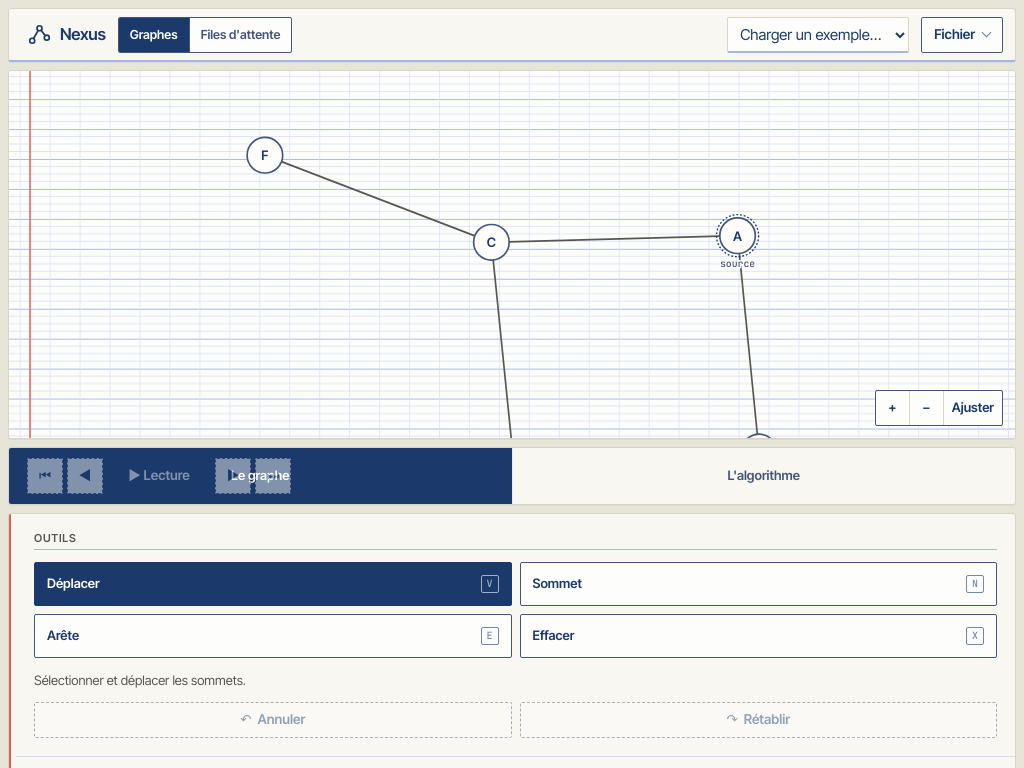
Scenario: le menu Fichier › se ferme avec Échap
Click the button "Fichier".
click(962, 34)  # box [921,16,1003,52]
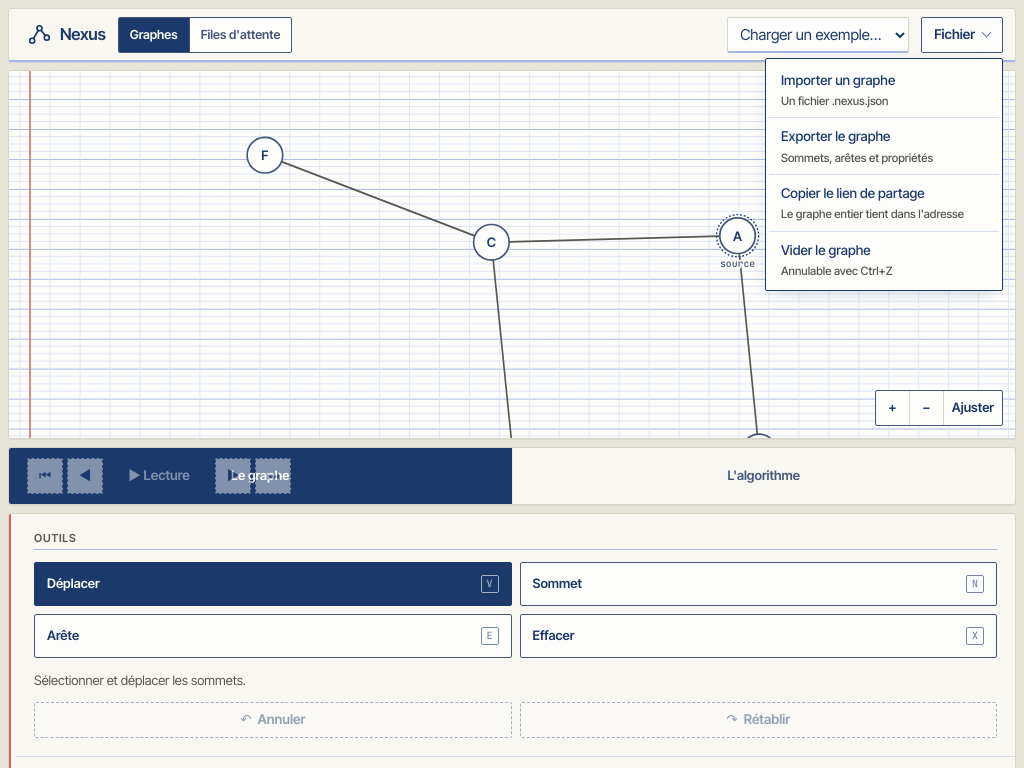
Now the menu item "Importer un graphe Un fichier .nexus.json" is shown, box [769,62,999,118]
Press Escape
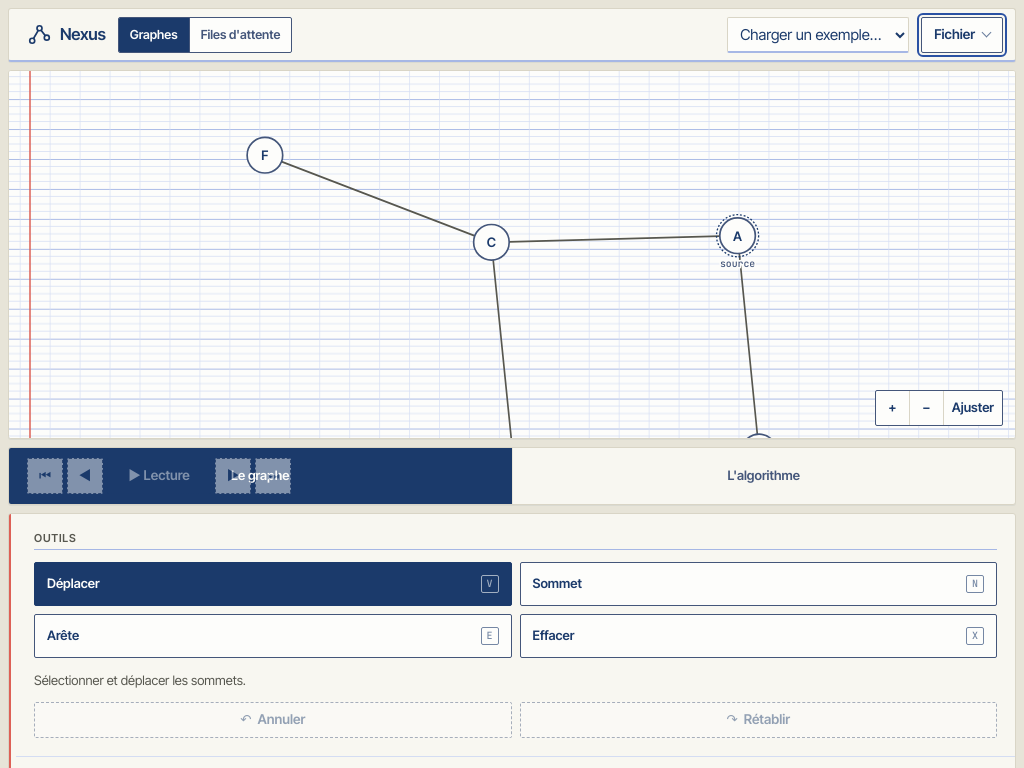
Now the menu item is gone
